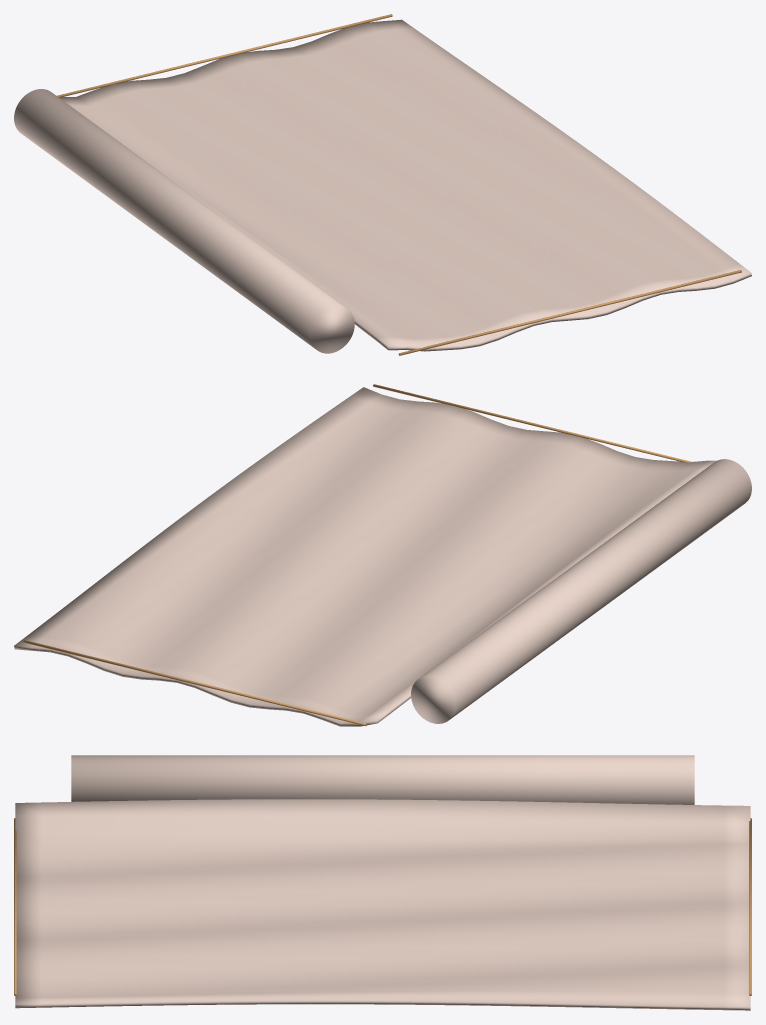
Rendered from manta-abrigo.glb.
3 views of the same model, one above another, from view 1: azimuth 30°, elevation 25°; view 2: azimuth 150°, elevation 25°; view 3: azimuth 270°, elevation 25° (orthographic). The views are drawn at different scales.
Parts seen in each view (by area): view 1: Cauda de tecido macio da manta, Rolo macio da Manta Abrigo, Bainha da manta terracota, Bainha da manta terracota.001; view 2: Cauda de tecido macio da manta, Rolo macio da Manta Abrigo, Bainha da manta terracota.001, Bainha da manta terracota; view 3: Cauda de tecido macio da manta, Rolo macio da Manta Abrigo, Bainha da manta terracota.001, Bainha da manta terracota.
Part boxes in pixels (x1,y1,x2,y2): Cauda de tecido macio da manta: (59,19,751,351); Rolo macio da Manta Abrigo: (14,89,354,353); Bainha da manta terracota: (398,270,741,355); Bainha da manta terracota.001: (57,14,392,97); Cauda de tecido macio da manta: (14,387,716,726); Rolo macio da Manta Abrigo: (411,459,751,723); Bainha da manta terracota.001: (23,640,366,725); Bainha da manta terracota: (373,384,691,462); Cauda de tecido macio da manta: (15,799,750,1010); Rolo macio da Manta Abrigo: (71,755,694,804); Bainha da manta terracota.001: (749,818,751,995); Bainha da manta terracota: (14,818,16,995).
Bounding box in the file's own units: 1.07 × 0.1232 × 1.57.
